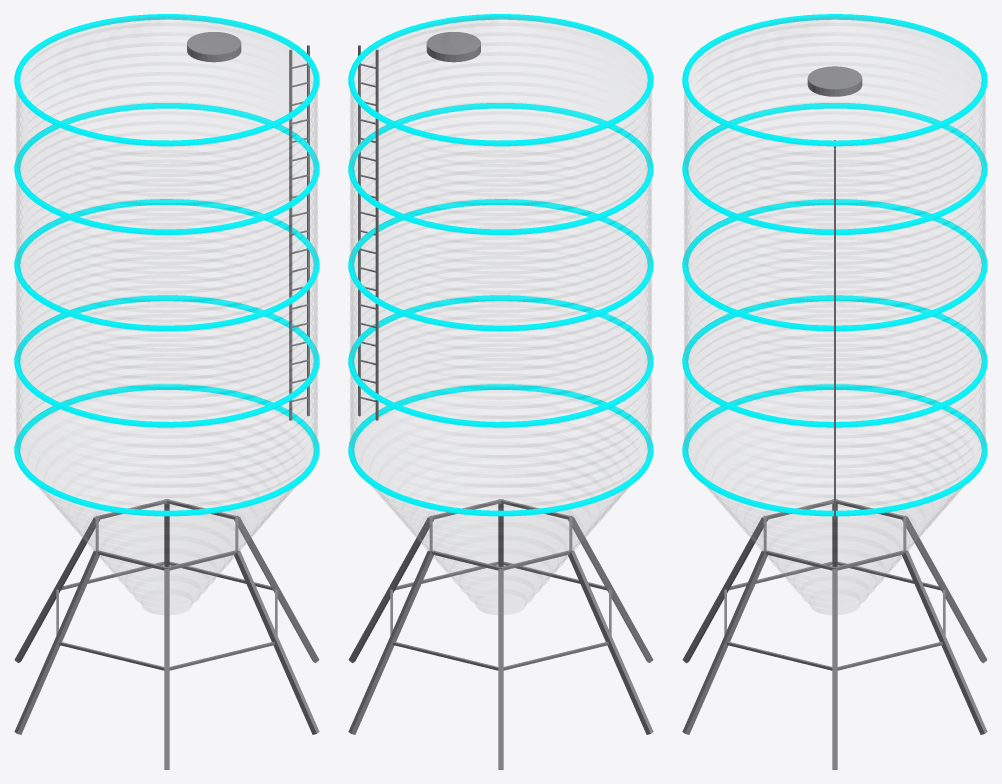
Rendered from silo_model.glb.
The picture shows the model from 3 angles, left to right: view 1: azimuth 30°, elevation 25°; view 2: azimuth 150°, elevation 25°; view 3: azimuth 270°, elevation 25°; orthographic projection.
Visible parts, largest first — view 1: silo_hopper, silo_scan_ring_top, silo_scan_ring_lower_upper, silo_scan_ring_base, silo_scan_ring_bottom_lower, silo_scan_ring_upper_top, zone_lower, zone_upper, zone_top, zone_bottom, silo_leg_4, silo_leg_6 (+6 smaller); view 2: silo_hopper, silo_scan_ring_top, silo_scan_ring_lower_upper, silo_scan_ring_base, silo_scan_ring_bottom_lower, silo_scan_ring_upper_top, zone_lower, zone_upper, zone_top, zone_bottom, silo_leg_2, silo_leg_4 (+6 smaller); view 3: silo_hopper, silo_scan_ring_top, silo_scan_ring_bottom_lower, silo_scan_ring_base, silo_scan_ring_upper_top, silo_scan_ring_lower_upper, zone_lower, zone_upper, zone_bottom, zone_top, silo_leg_2, silo_leg_6 (+5 smaller).
Part boxes in pixels (x1,y1,x2,y2): silo_hopper: (37, 469, 305, 614); silo_scan_ring_top: (14, 14, 319, 146); silo_scan_ring_lower_upper: (14, 199, 319, 331); silo_scan_ring_base: (14, 384, 319, 516); silo_scan_ring_bottom_lower: (14, 295, 319, 427); silo_scan_ring_upper_top: (14, 103, 319, 234); zone_lower: (16, 256, 317, 371); zone_upper: (16, 159, 317, 275); zone_top: (16, 71, 317, 178); zone_bottom: (16, 351, 317, 460); silo_leg_4: (14, 550, 99, 734); silo_leg_6: (234, 550, 319, 734); silo_hopper: (362, 469, 630, 614); silo_scan_ring_top: (348, 14, 653, 146); silo_scan_ring_lower_upper: (348, 199, 653, 331); silo_scan_ring_base: (348, 384, 653, 516); silo_scan_ring_bottom_lower: (348, 295, 653, 427); silo_scan_ring_upper_top: (348, 103, 653, 234); zone_lower: (350, 256, 651, 371); zone_upper: (350, 159, 651, 275); zone_top: (350, 71, 651, 178); zone_bottom: (350, 351, 651, 460); silo_leg_2: (348, 550, 433, 734); silo_leg_4: (568, 550, 653, 734); silo_hopper: (705, 486, 964, 614); silo_scan_ring_top: (682, 14, 987, 146); silo_scan_ring_bottom_lower: (682, 295, 987, 427); silo_scan_ring_base: (682, 384, 987, 516); silo_scan_ring_upper_top: (682, 103, 987, 234); silo_scan_ring_lower_upper: (682, 199, 987, 331); zone_lower: (684, 256, 985, 371); zone_upper: (684, 160, 985, 275); zone_bottom: (684, 351, 985, 460); zone_top: (684, 71, 985, 178); silo_leg_2: (902, 550, 987, 734); silo_leg_6: (682, 550, 767, 734).
Size of the model in its own units: 5.13 by 11.02 by 4.49.
